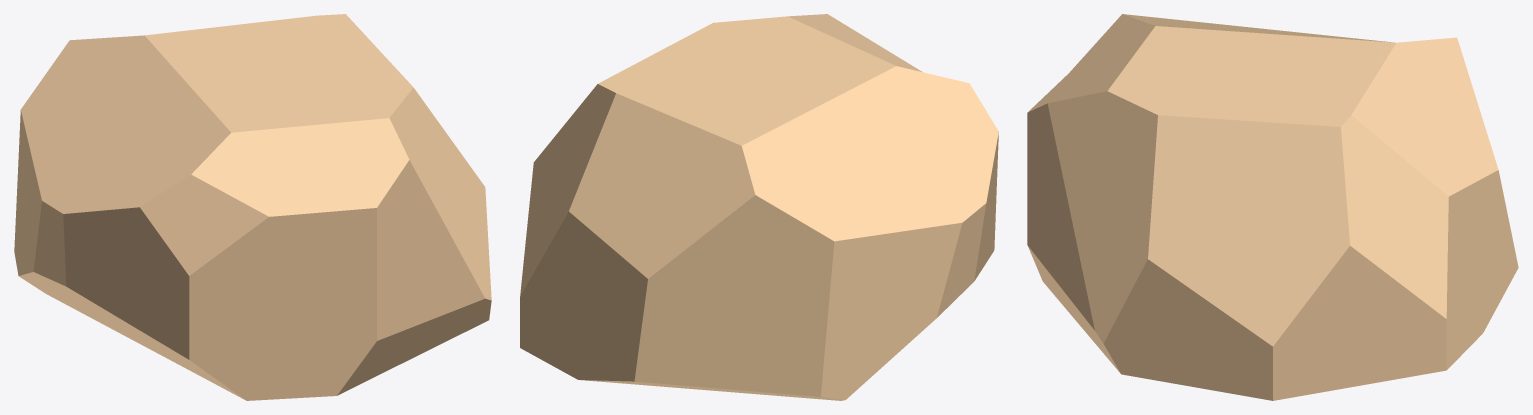
The model's file is sand-rock1.fbx.
3 renders of one model, left to right at view 1: azimuth 30°, elevation 25°; view 2: azimuth 150°, elevation 25°; view 3: azimuth 270°, elevation 25°, orthographic.
Parts seen in each view (by area): view 1: 柱体.010; view 2: 柱体.010; view 3: 柱体.010.
Part boxes in pixels (x1,y1,x2,y2): 柱体.010: (14, 14, 491, 400); 柱体.010: (520, 14, 998, 400); 柱体.010: (1027, 14, 1518, 400).
Bounding box in the file's own units: 292 × 154 × 295.
